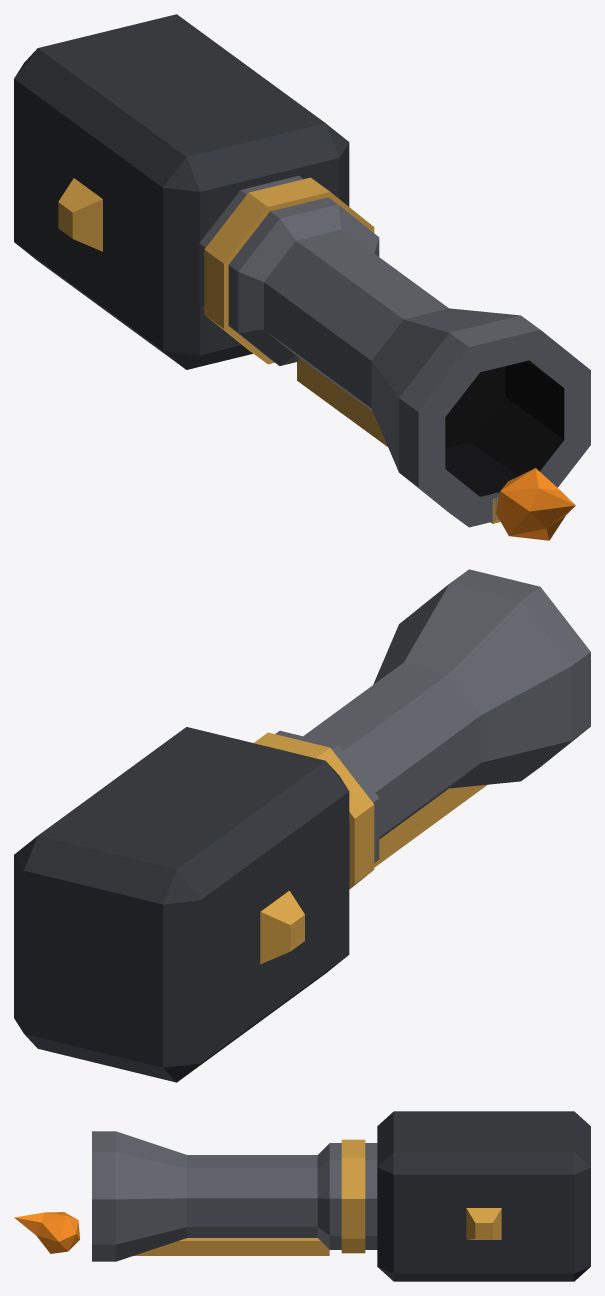
Rendered from FlameBarrel.obj.
3 renders of one model, top to bottom at view 1: azimuth 30°, elevation 25°; view 2: azimuth 150°, elevation 25°; view 3: azimuth 270°, elevation 25°, orthographic. The views are drawn at different scales.
Parts seen in each view (by area): view 1: FlameBarrel; view 2: FlameBarrel; view 3: FlameBarrel.
Part boxes in pixels (bbox=[...]): FlameBarrel: bbox=[14, 14, 590, 540]; FlameBarrel: bbox=[14, 569, 590, 1082]; FlameBarrel: bbox=[14, 1111, 590, 1281].
Bounding box in the file's own units: 0.1644 × 0.144 × 0.5828.
